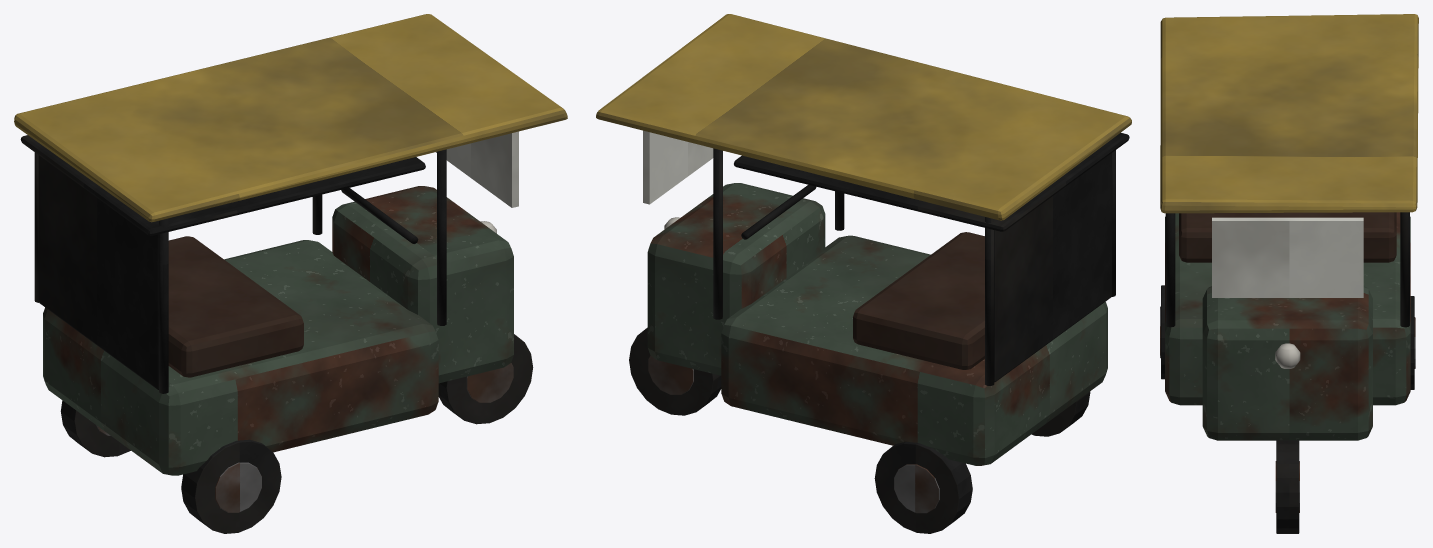
The model's file is R07_abandoned_auto_rickshaw.glb.
3 renders of one model, left to right at view 1: azimuth 30°, elevation 25°; view 2: azimuth 150°, elevation 25°; view 3: azimuth 270°, elevation 25°, orthographic. The views are drawn at different scales.
Visible parts, largest first — view 1: R07_abandoned_auto_rickshaw; view 2: R07_abandoned_auto_rickshaw; view 3: R07_abandoned_auto_rickshaw.
Part boxes in pixels (x1=…): R07_abandoned_auto_rickshaw: x1=14, y1=14, x2=567, y2=533; R07_abandoned_auto_rickshaw: x1=596, y1=14, x2=1131, y2=533; R07_abandoned_auto_rickshaw: x1=1160, y1=14, x2=1418, y2=533.
Size of the model in its own units: 3 by 2.29 by 1.6.
8 materials, 8 textured.
